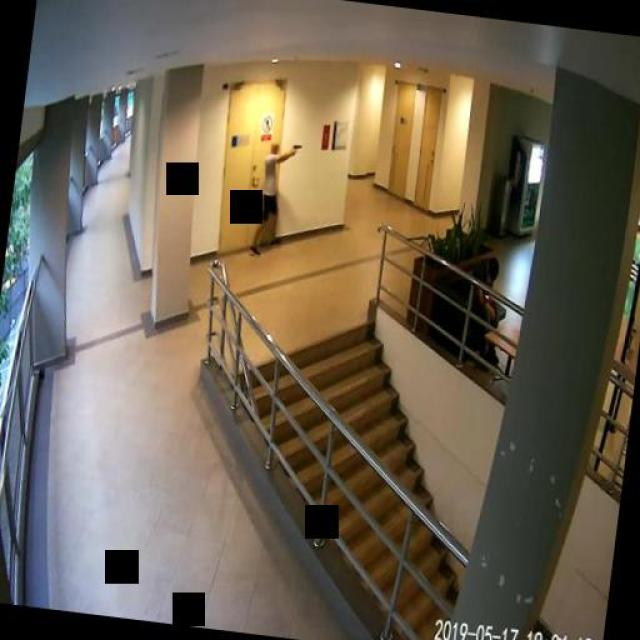gun: (289, 139, 305, 159)
